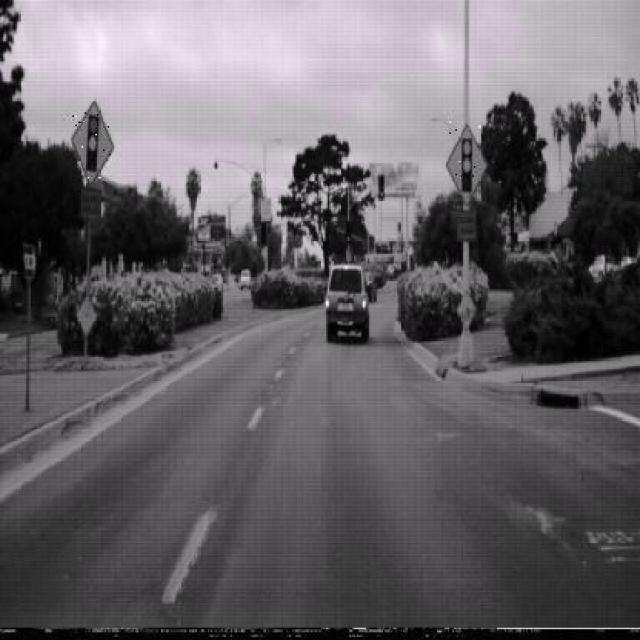signalAhead: (70, 98, 114, 186), (446, 121, 488, 208)
